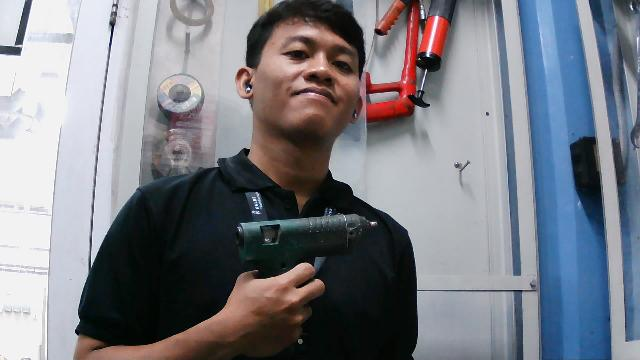gun_lem: (230, 209, 386, 296)
